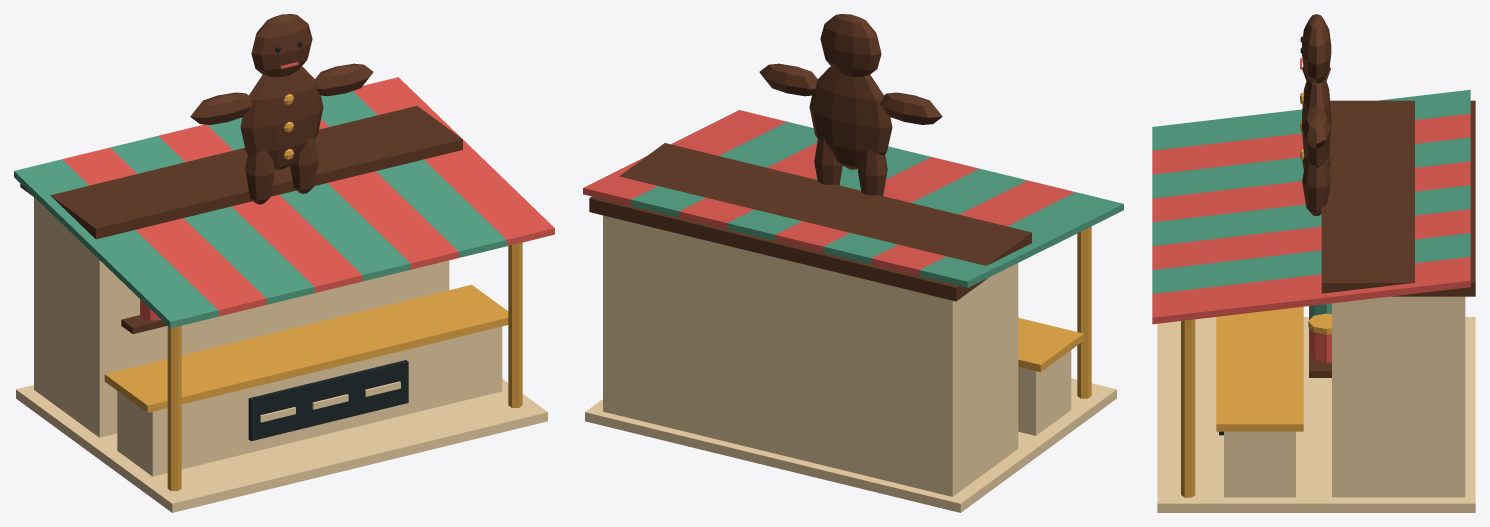
Rendered from ParkParkShopCookie.obj.
3 views of the same model, side by side, from view 1: azimuth 30°, elevation 25°; view 2: azimuth 150°, elevation 25°; view 3: azimuth 270°, elevation 25° (orthographic).
Parts seen in each view (by area): view 1: ParkParkShopCookie; view 2: ParkParkShopCookie; view 3: ParkParkShopCookie.
Part boxes in pixels (x1,y1,x2,y2): ParkParkShopCookie: (14, 14, 554, 512); ParkParkShopCookie: (583, 14, 1123, 512); ParkParkShopCookie: (1152, 14, 1475, 512).
Bounding box in the file's own units: 8.8 × 8.65 × 6.3.
